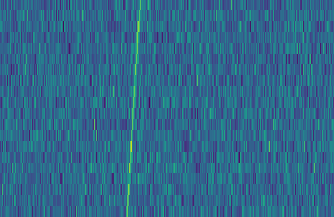signal: (120, 0, 143, 217)
